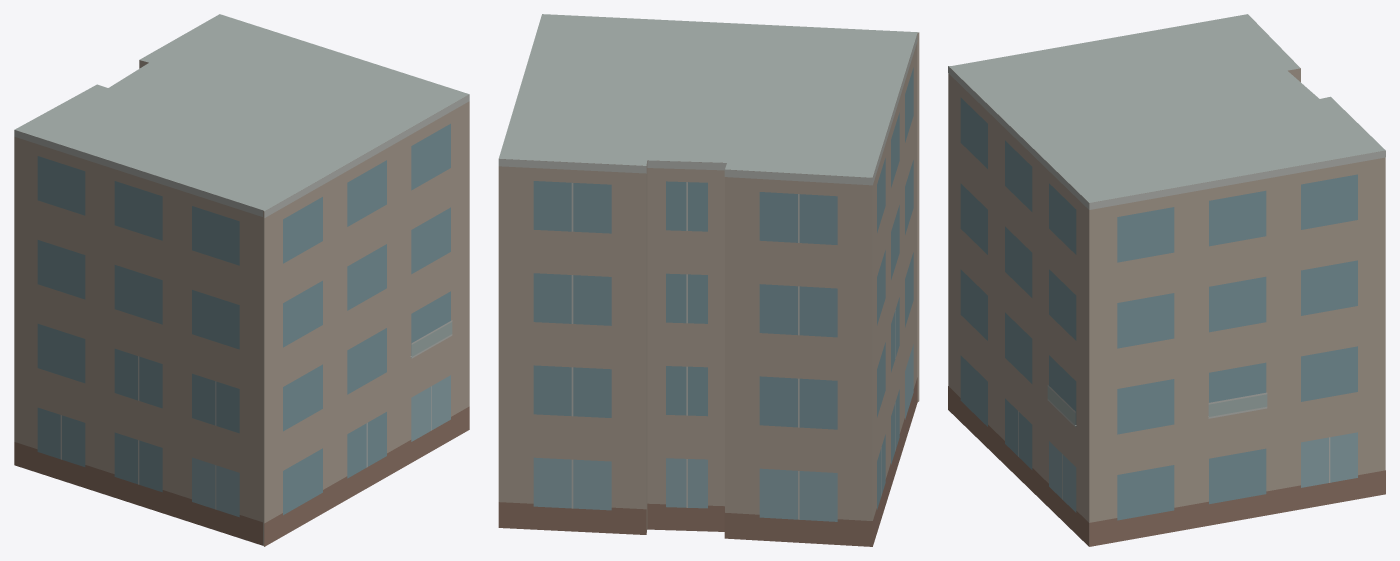
The model's file is survey-upis-32977021.glb.
3 renders of one model, left to right at view 1: azimuth 30°, elevation 25°; view 2: azimuth 150°, elevation 25°; view 3: azimuth 270°, elevation 25°, orthographic. The views are drawn at different scales.
Visible parts, largest first — view 1: survey-upis-32977021.tmp; view 2: survey-upis-32977021.tmp; view 3: survey-upis-32977021.tmp.
Part boxes in pixels (left/top/right/bottom): survey-upis-32977021.tmp: left=14, top=14, right=469, bottom=546; survey-upis-32977021.tmp: left=498, top=14, right=919, bottom=546; survey-upis-32977021.tmp: left=948, top=14, right=1385, bottom=546.
Size of the model in its own units: 14.04 by 11.9 by 13.74.
